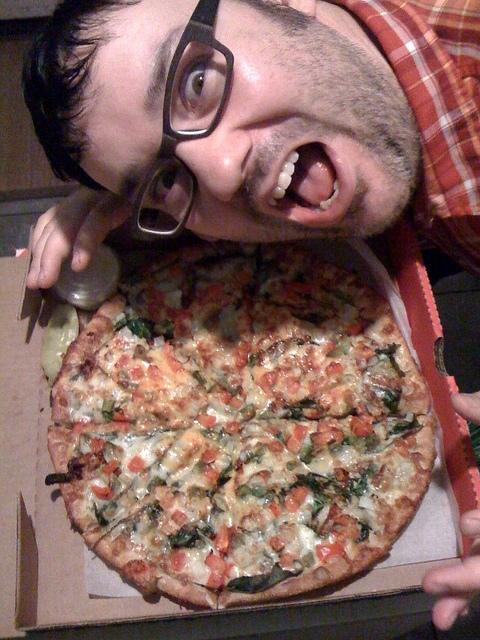tomato: (318, 502, 342, 537), (145, 285, 166, 323), (205, 554, 226, 589), (162, 340, 182, 372), (316, 542, 346, 563), (288, 424, 308, 454), (231, 340, 251, 370), (285, 487, 307, 512), (350, 416, 374, 437), (214, 524, 230, 554), (165, 307, 194, 323), (201, 284, 224, 304), (307, 374, 328, 395), (104, 422, 134, 436), (345, 316, 365, 337), (200, 464, 220, 484), (113, 402, 132, 423), (158, 491, 176, 511), (356, 344, 377, 361), (310, 432, 336, 445), (290, 280, 314, 294), (69, 422, 97, 434), (128, 456, 146, 474), (90, 436, 108, 454), (196, 414, 216, 430), (170, 550, 186, 570), (91, 486, 113, 500), (394, 437, 409, 457), (260, 372, 278, 388), (171, 508, 187, 526), (325, 362, 343, 378), (286, 376, 300, 396), (101, 458, 118, 474), (201, 449, 219, 464), (279, 554, 298, 568), (130, 364, 146, 380), (270, 536, 286, 552), (333, 468, 350, 482), (115, 354, 130, 369), (268, 502, 283, 517), (267, 440, 284, 453), (147, 364, 160, 379), (404, 432, 416, 448), (255, 470, 271, 482), (306, 409, 325, 419), (175, 320, 186, 336), (237, 386, 248, 402), (225, 422, 239, 434), (220, 390, 232, 404), (230, 397, 244, 408), (314, 366, 326, 378), (131, 392, 144, 402), (328, 341, 336, 351), (318, 326, 328, 334)
